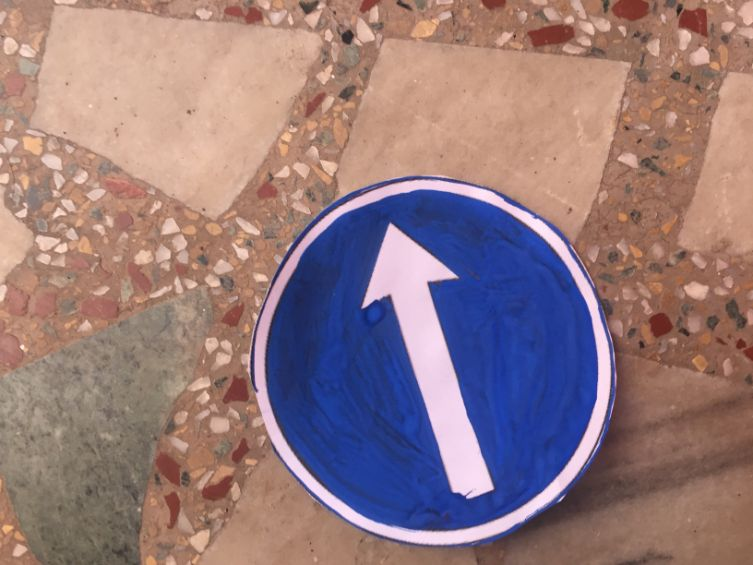go-stright: (254, 179, 616, 545)
